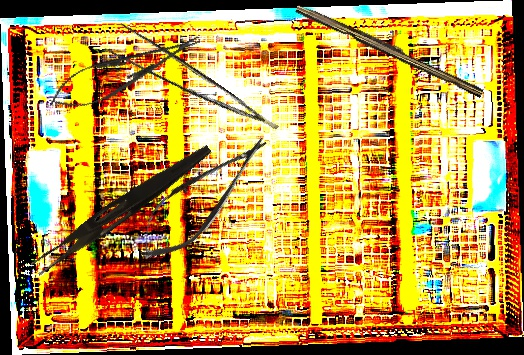Dressing Forceps: (30, 135, 214, 283)
Micro Scissor: (123, 120, 282, 274)
Needle Holder: (42, 21, 208, 122)
Scalpel Handle: (293, 1, 487, 98)
Tissue Forceps: (101, 16, 279, 156)
